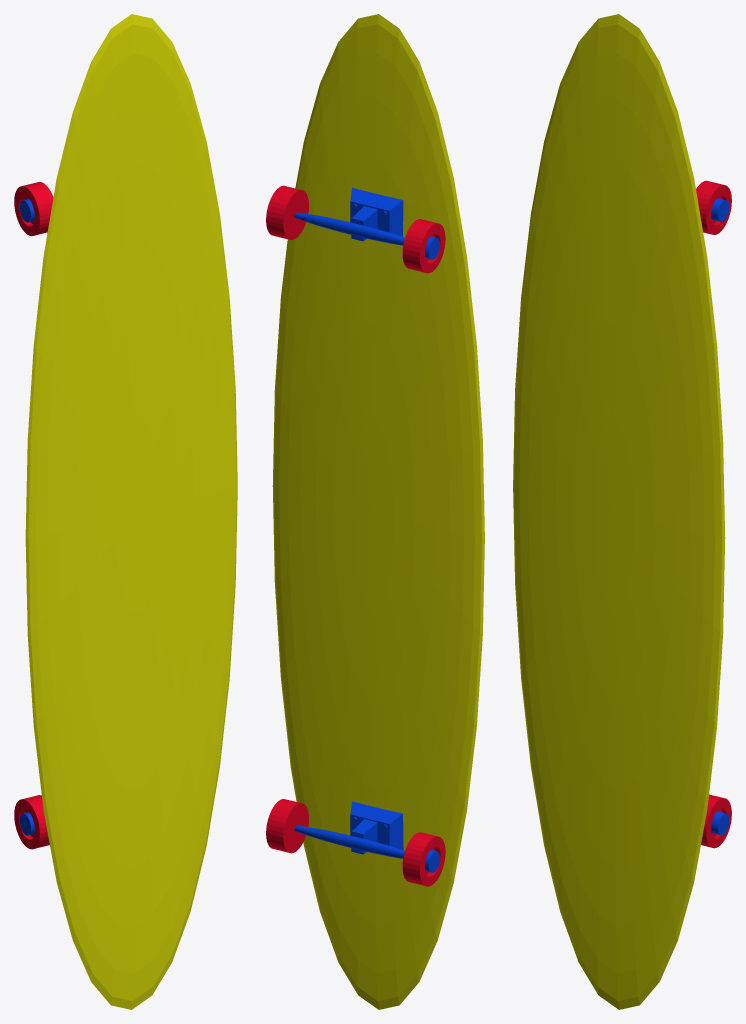
File: Skateboard.fbx
3 renders of one model, left to right at view 1: azimuth 30°, elevation 25°; view 2: azimuth 150°, elevation 25°; view 3: azimuth 330°, elevation 25°, orthographic.
Parts seen in each view (by area): view 1: Sphere; view 2: Sphere; view 3: Sphere.
Part boxes in pixels (x1,y1,x2,y2): Sphere: [14, 14, 237, 1009]; Sphere: [266, 14, 484, 1009]; Sphere: [513, 14, 731, 1009].
Size of the model in its own units: 101 by 452 by 35.6.
